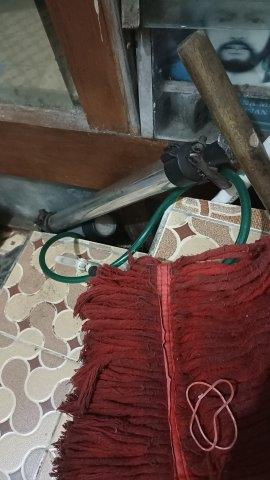karet: (185, 379, 238, 452)
